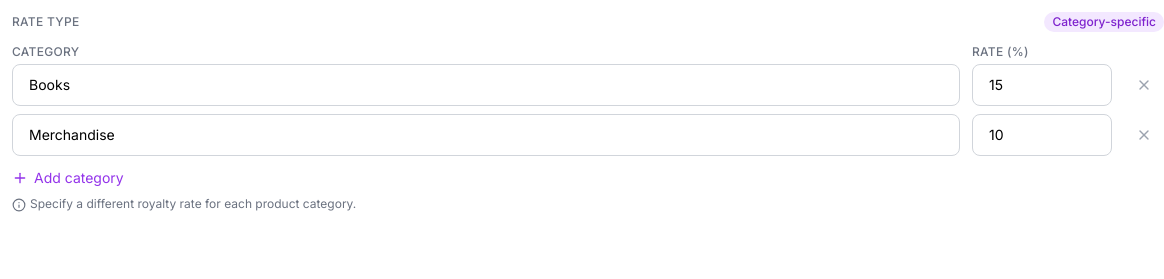
Test case: Category rate mode › adds a new empty row when "+ Add category" is clicked
Click the button "Add category". click: (68, 178)
box: [12,168,124,188]
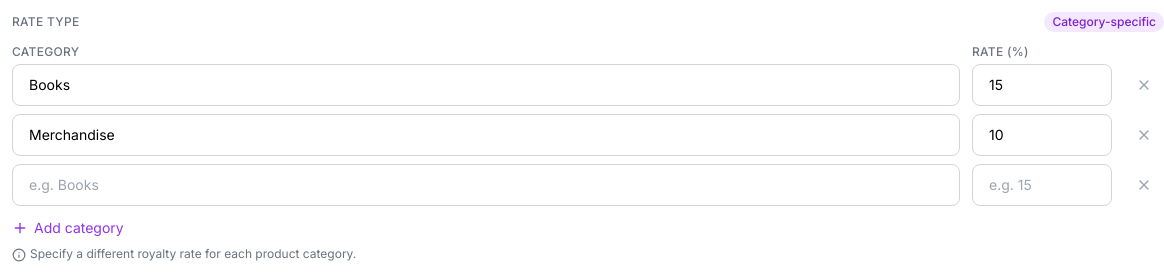
Expected: the number of fields named "category name" is 3, [12,64,960,106]; [12,114,960,156]; [12,164,960,206]
